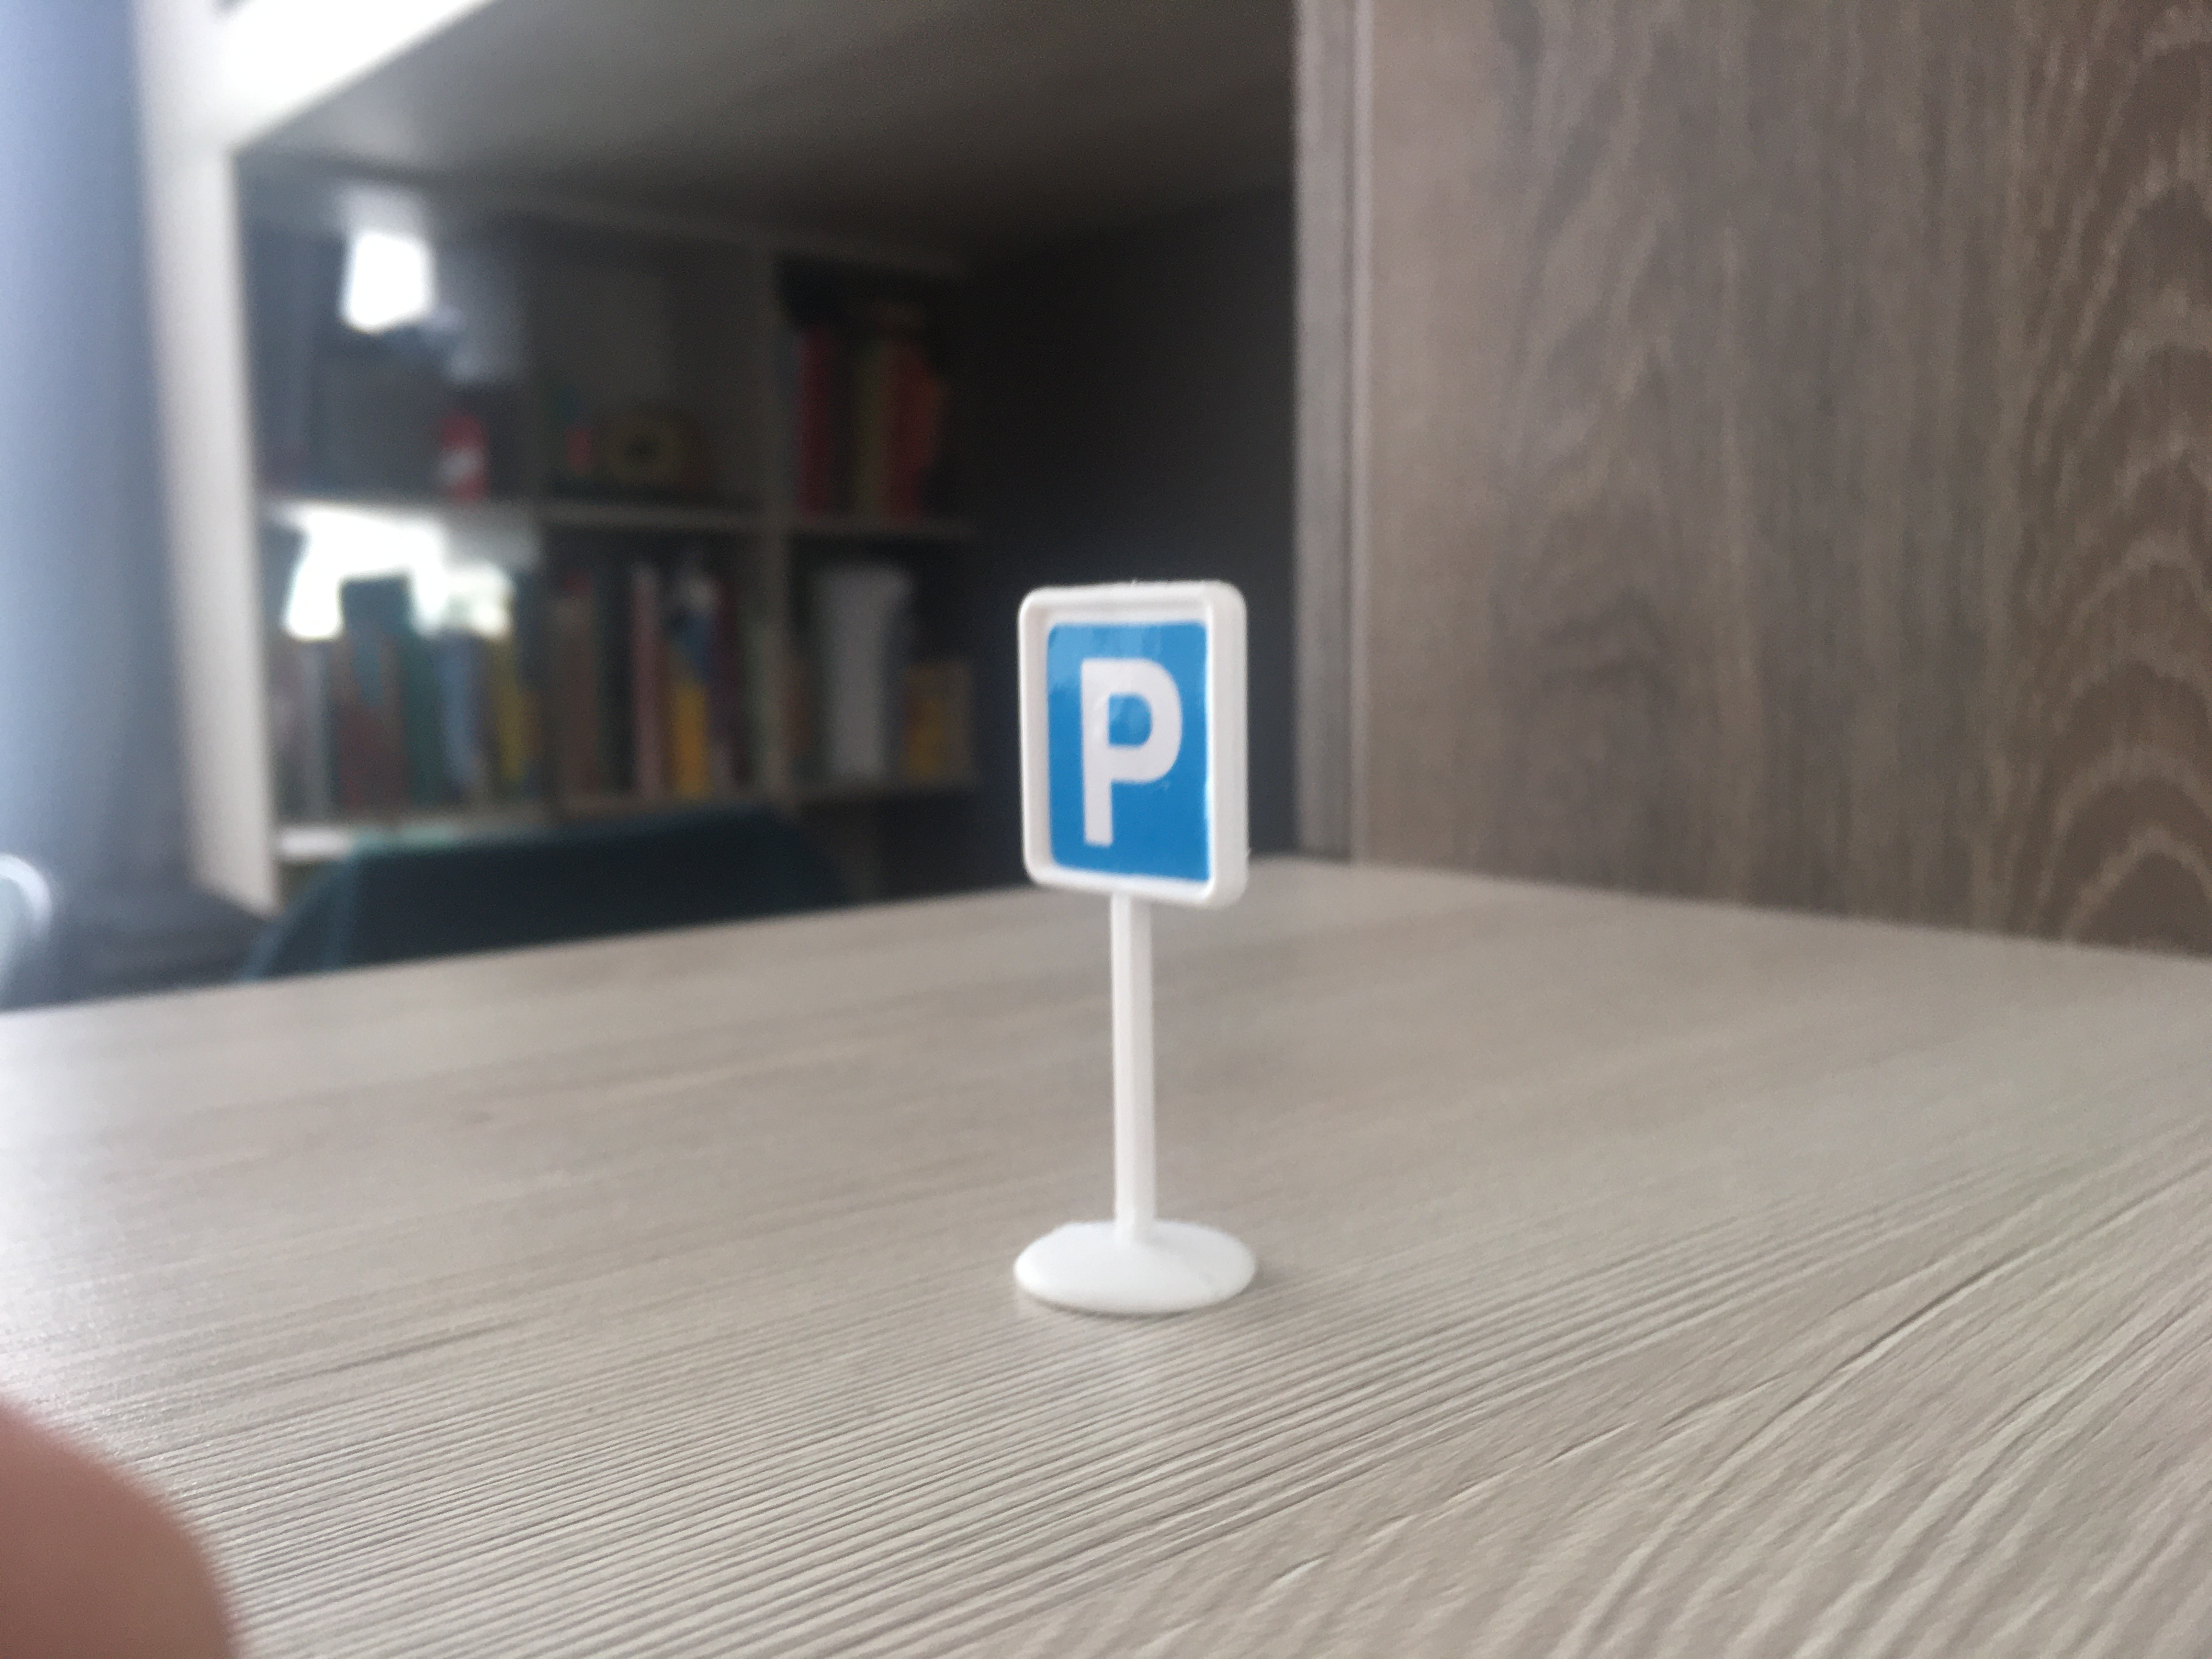parking: (996, 579, 1249, 920)
